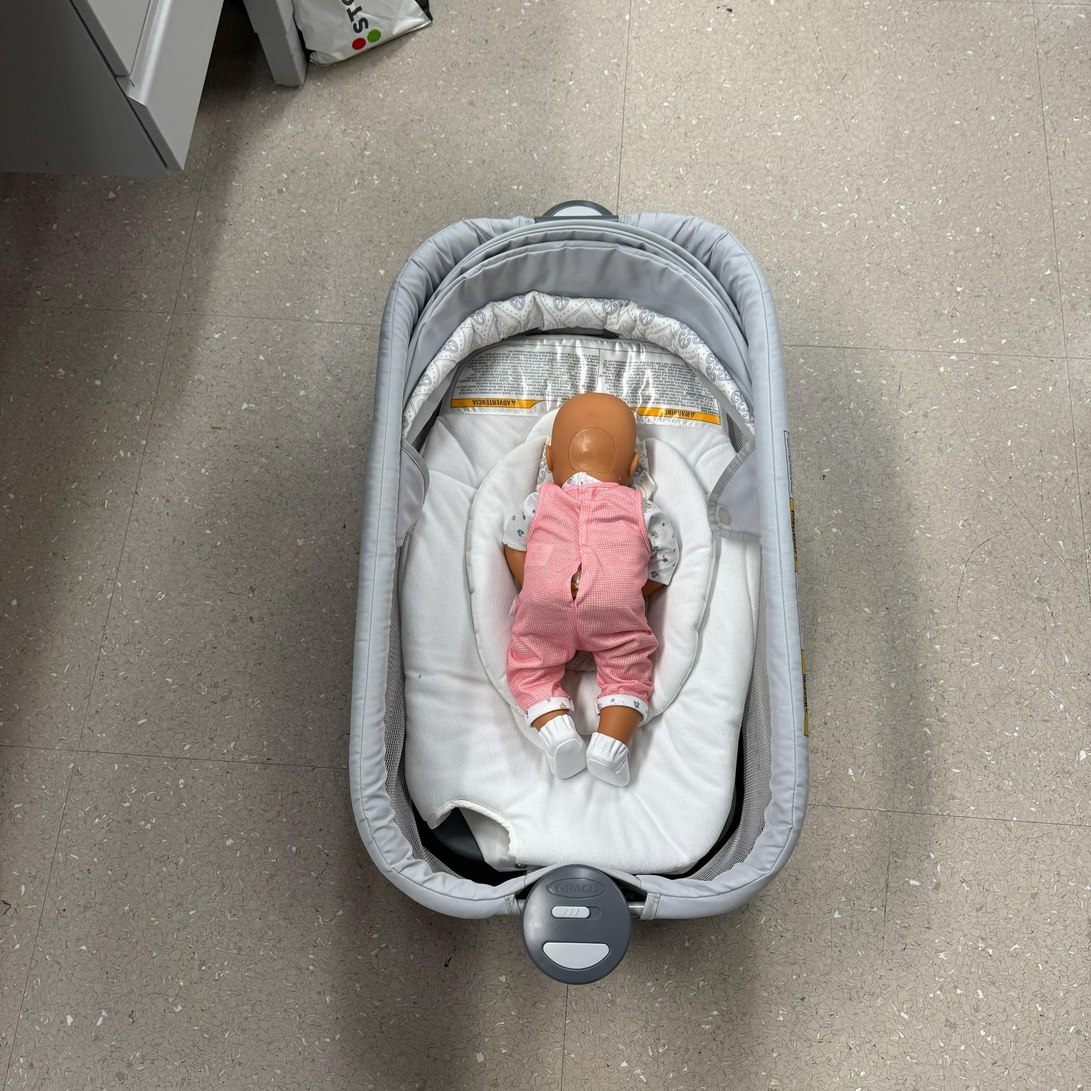baby: (496, 385, 690, 804)
